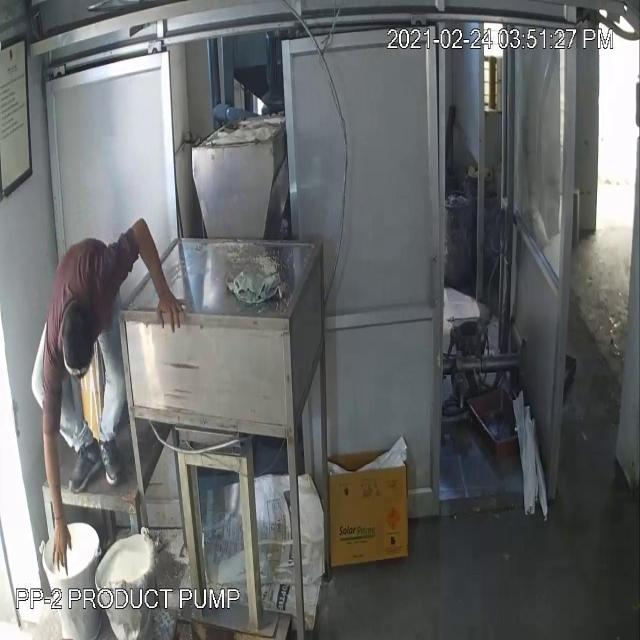no-helmet: (52, 291, 106, 381)
